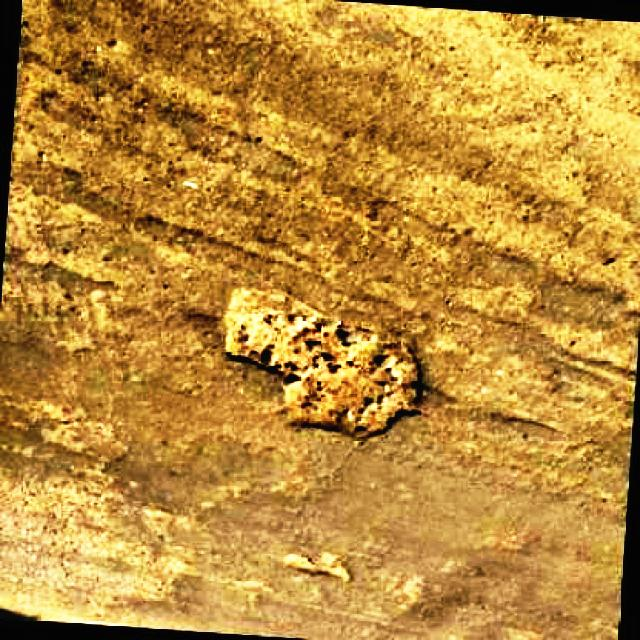pothole: (223, 286, 425, 440)
